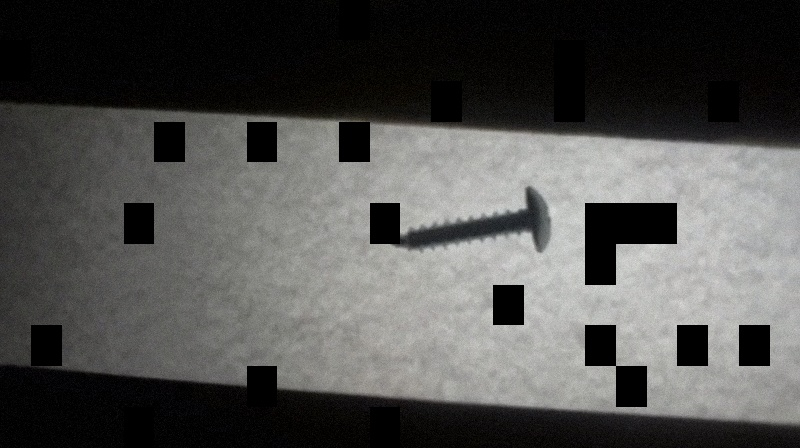S003: (389, 183, 554, 256)
